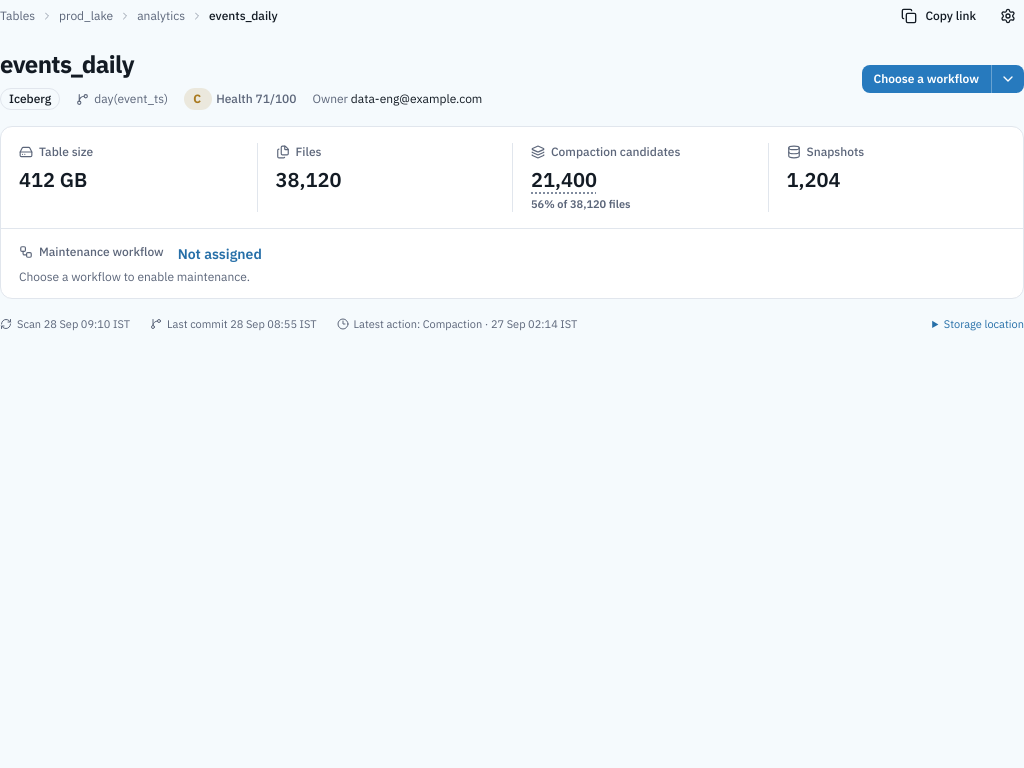
Test case: TableDetailHeader › disables the full workflow run and single operations until a workflow is assigned
Click the button named "More actions" at point(1008, 79), box [991,65,1023,93]
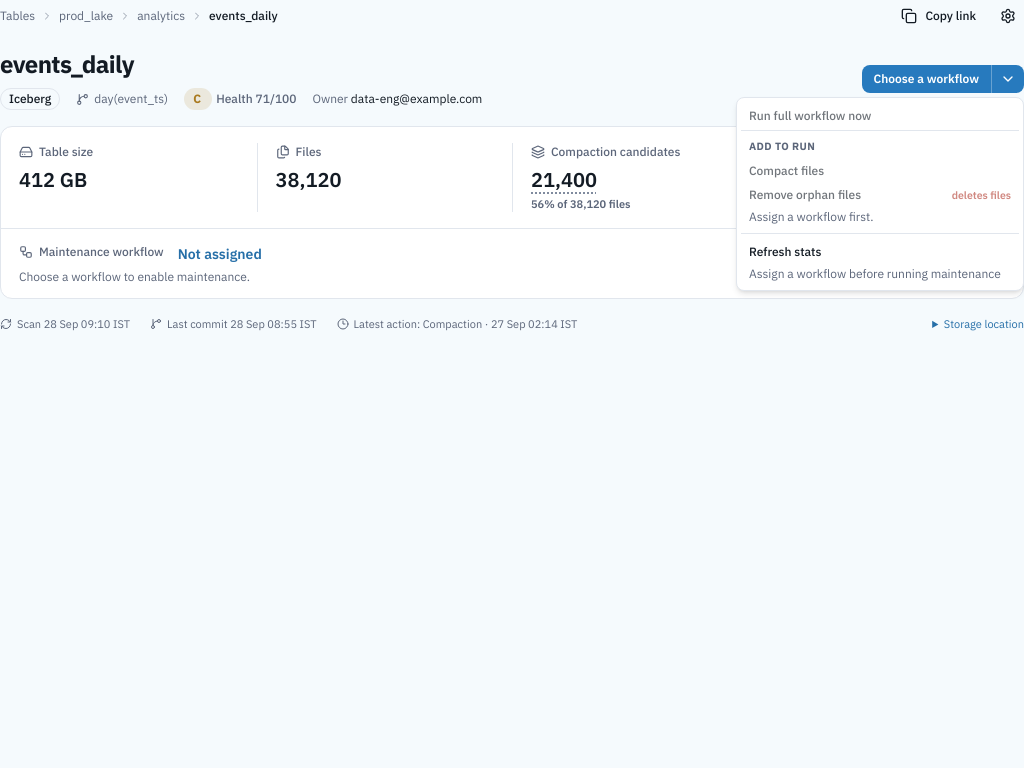
Now the button "Run full workflow now" is disabled, box [741,108,1019,124]
Now the button "Compact files" is disabled, box [741,163,1019,179]
Now the text "Assign a workflow before running maintenance" is shown, box [741,262,1019,286]
